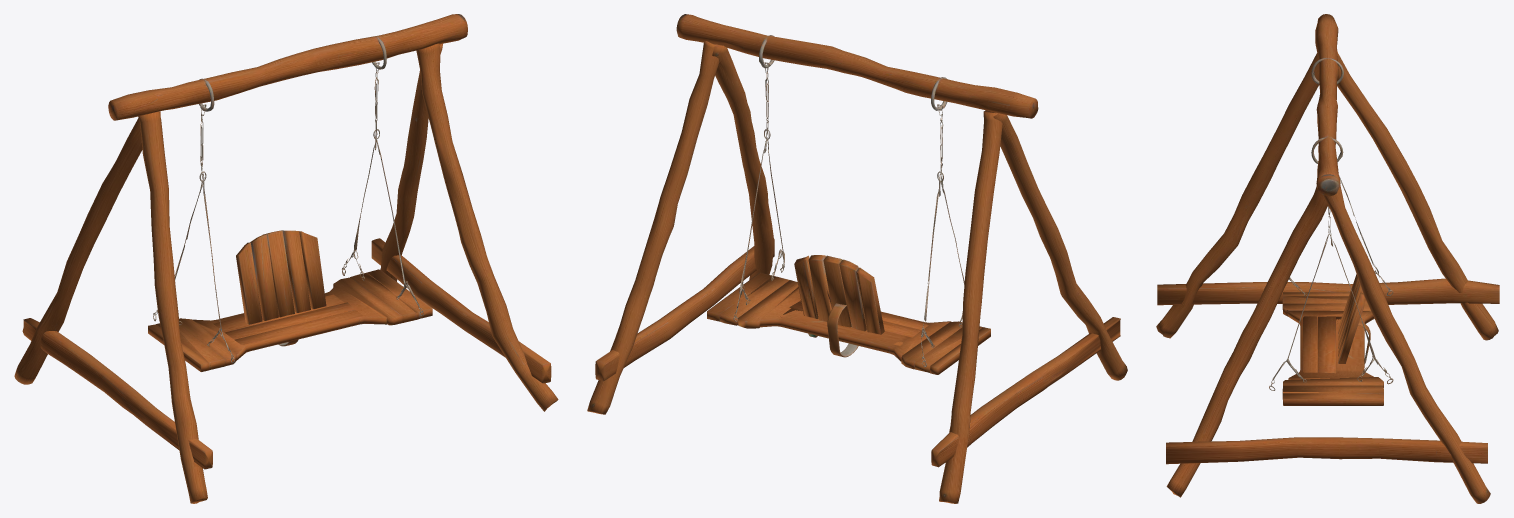
Rendered from swing_set.glb.
3 views of the same model, side by side, from view 1: azimuth 30°, elevation 25°; view 2: azimuth 150°, elevation 25°; view 3: azimuth 270°, elevation 25° (orthographic). The views are drawn at different scales.
Size of the model in its own units: 0.9526 by 0.8403 by 0.7998.
Materials: 1 (1 with a texture image).
